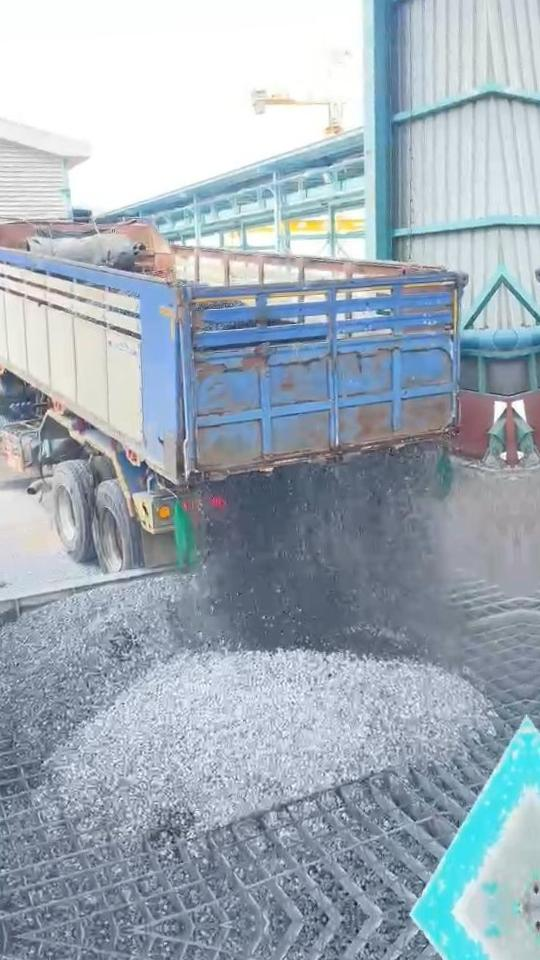gravel: (0, 575, 491, 843), (199, 444, 457, 660)
